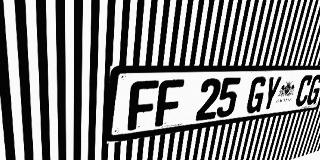2: (195, 78, 222, 121)
5: (215, 77, 241, 118)
C: (294, 75, 314, 107)
F: (127, 80, 159, 131), (155, 79, 184, 127)
G: (245, 76, 268, 114), (305, 74, 320, 105)
Y: (260, 76, 283, 112)
